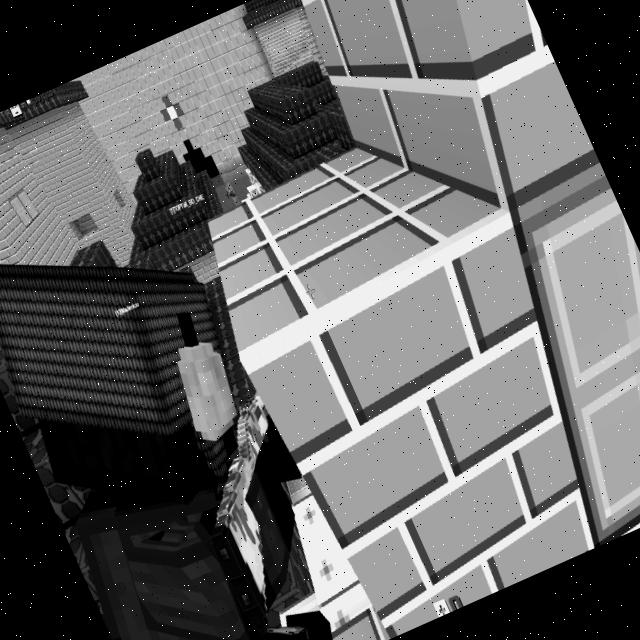Head: (0, 188, 278, 541), (223, 181, 234, 193)
Player: (0, 185, 373, 640), (222, 181, 241, 208)
